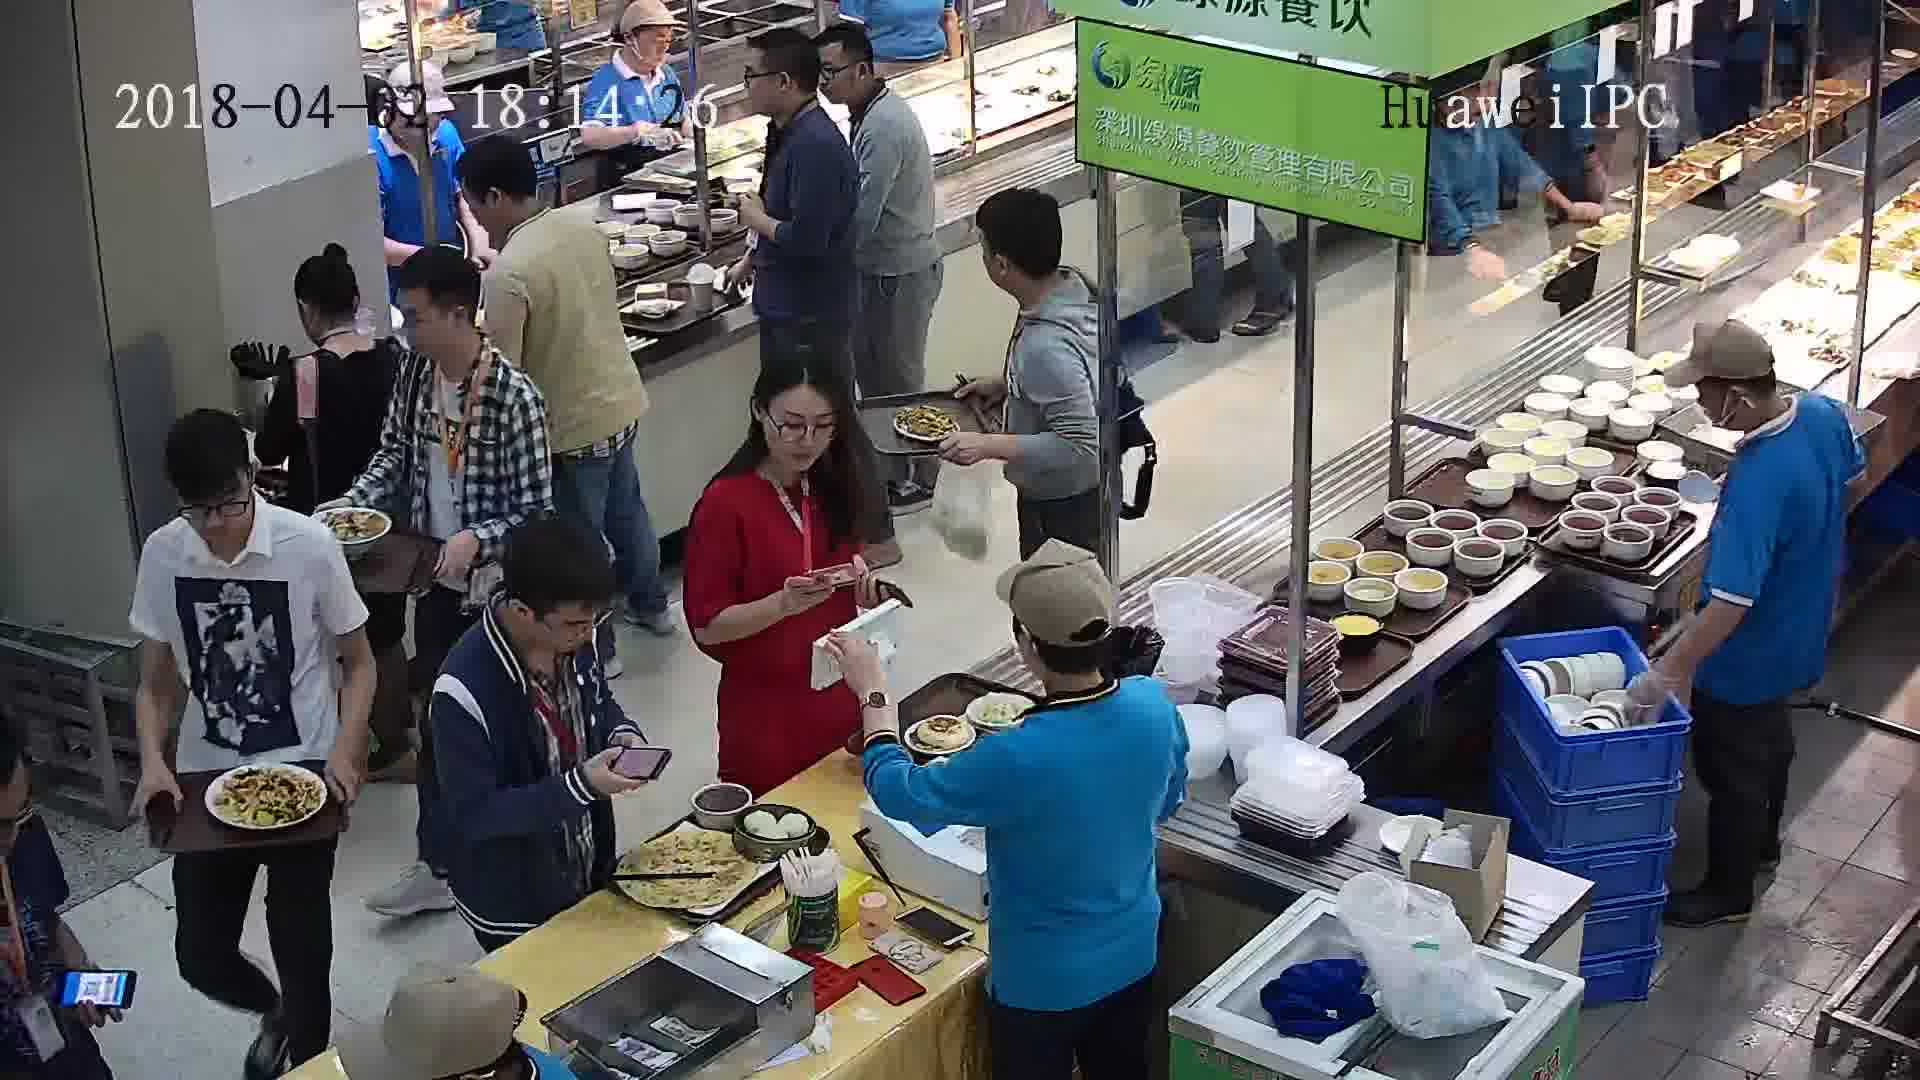face: (760, 393, 842, 475), (387, 285, 461, 358), (183, 476, 255, 548), (726, 45, 795, 114), (952, 220, 1020, 288), (538, 592, 601, 655), (805, 45, 865, 105), (446, 180, 503, 238)
person: (968, 543, 1186, 801), (422, 511, 618, 749), (137, 403, 344, 611), (1679, 323, 1857, 523), (694, 349, 869, 534), (386, 242, 546, 437), (458, 129, 606, 295), (974, 185, 1106, 369), (280, 242, 405, 401), (744, 35, 851, 175), (817, 22, 922, 155), (1, 709, 65, 896), (589, 3, 684, 104), (365, 69, 454, 163)
